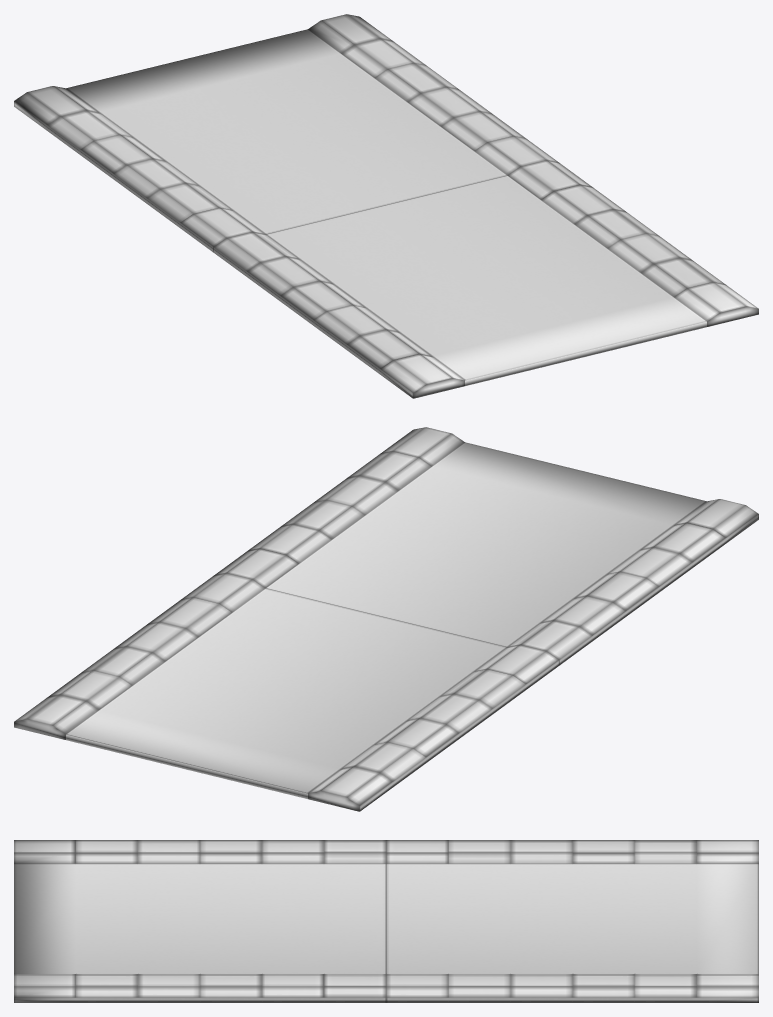
Rendered from Track-02.fbx.
The picture shows the model from 3 angles, top to bottom: view 1: azimuth 30°, elevation 25°; view 2: azimuth 150°, elevation 25°; view 3: azimuth 270°, elevation 25°; orthographic projection. The views are drawn at different scales.
Parts seen in each view (by area): view 1: Track-02; view 2: Track-02; view 3: Track-02.
Part boxes in pixels (x1=…): Track-02: x1=14, y1=14, x2=758, y2=398; Track-02: x1=14, y1=427, x2=758, y2=811; Track-02: x1=14, y1=840, x2=758, y2=1002.
Bounding box in the file's own units: 2 × 0.0625 × 4.
